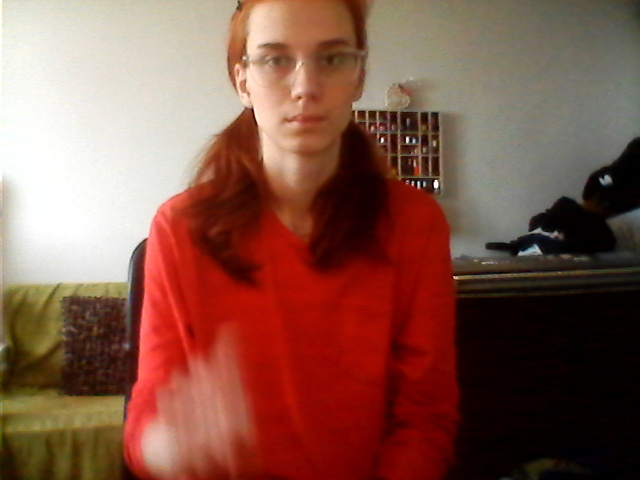i: (151, 316, 303, 468)
